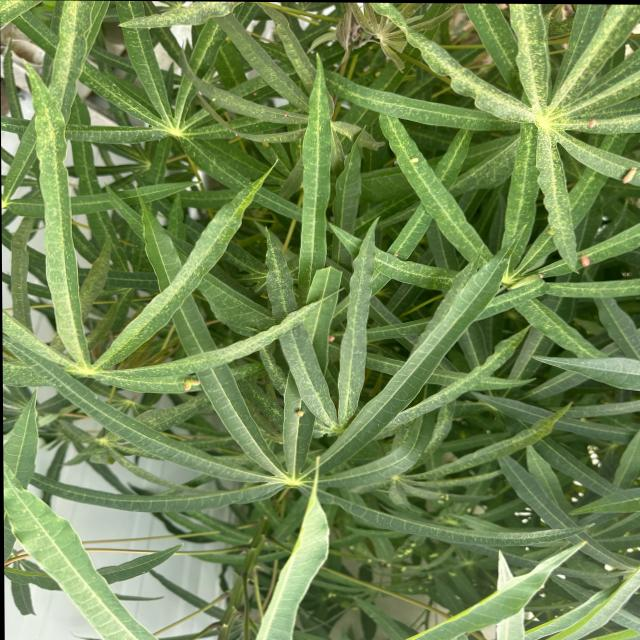Mosca: (178, 371, 204, 399), (617, 158, 640, 186), (570, 249, 594, 269), (294, 400, 316, 421), (326, 326, 346, 348), (580, 112, 600, 133), (405, 149, 425, 169)
